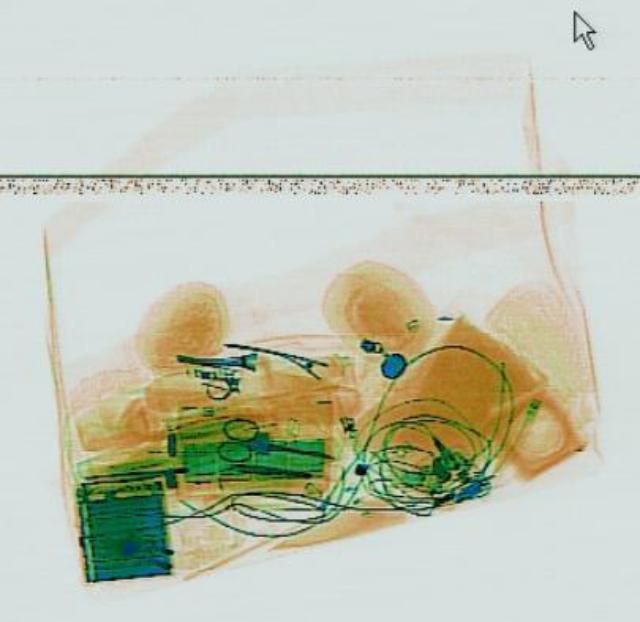Scissors: (212, 412, 340, 477)
